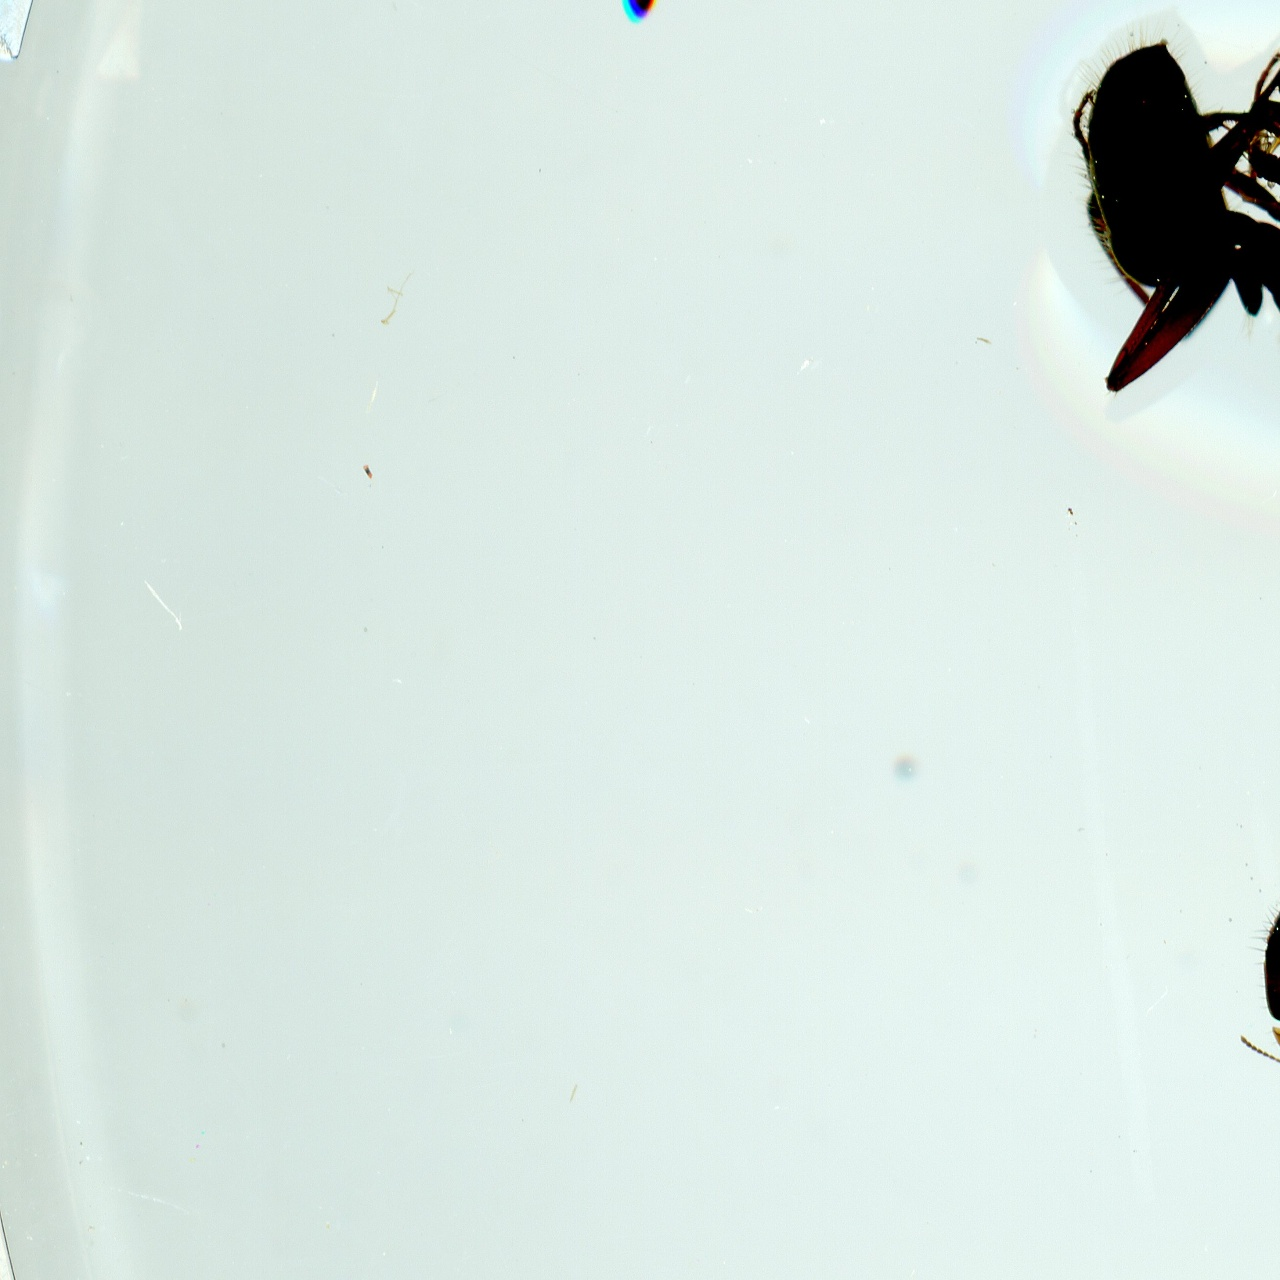arthropod: (1068, 32, 1280, 390), (1245, 863, 1280, 1095), (614, 0, 720, 18)
